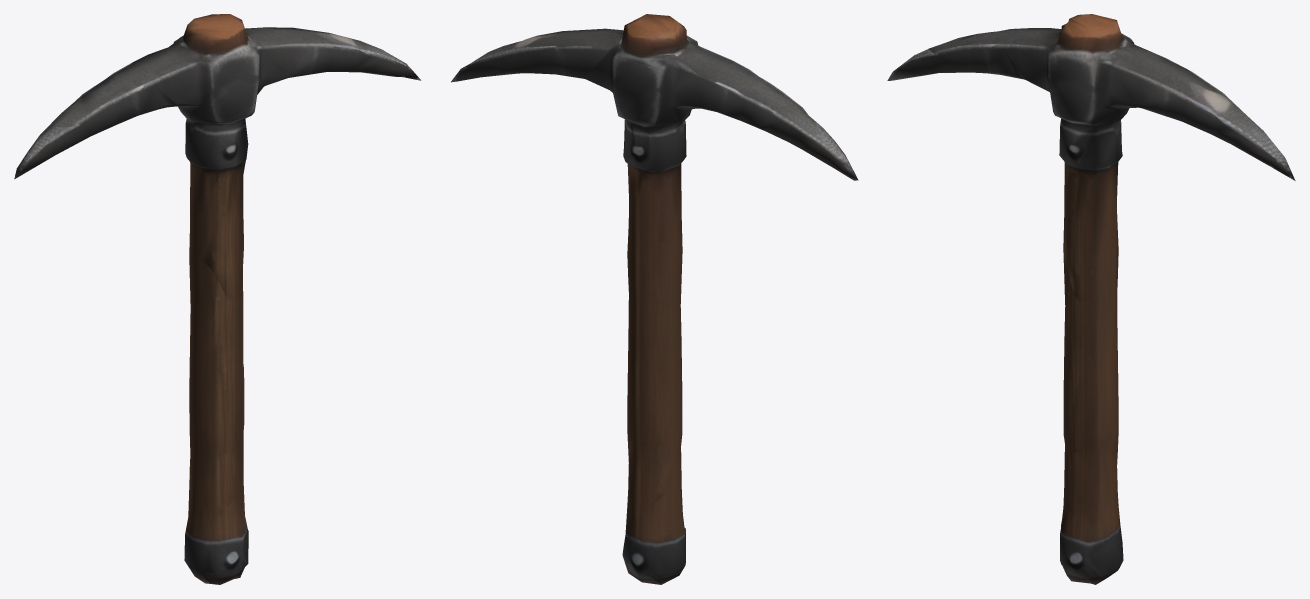
File: pico.glb
3 views of the same model, side by side, from view 1: azimuth 30°, elevation 25°; view 2: azimuth 150°, elevation 25°; view 3: azimuth 330°, elevation 25° (orthographic).
Parts seen in each view (by area): view 1: geometry_0; view 2: geometry_0; view 3: geometry_0.
Part boxes in pixels (<box>): geometry_0: <box>14,14,421,584</box>; geometry_0: <box>451,14,858,584</box>; geometry_0: <box>887,14,1295,584</box>.
Size of the model in its own units: 0.5261 by 0.68 by 0.0853.
Materials: 1 (1 with a texture image).
